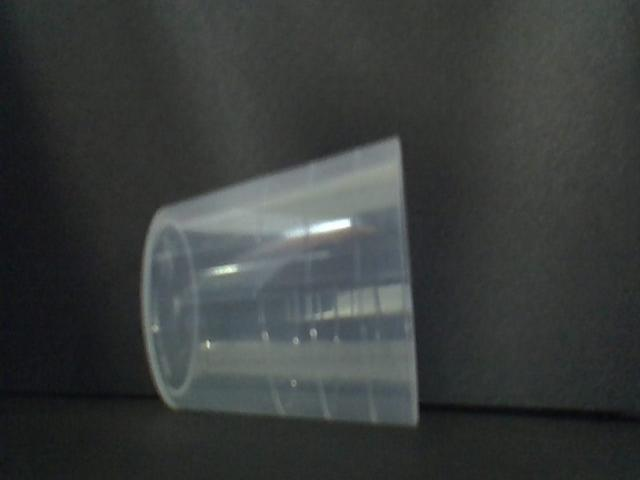cup: (146, 132, 430, 437)
